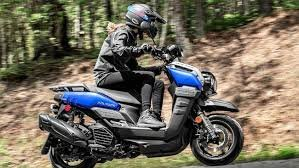motor: (38, 45, 247, 168)
